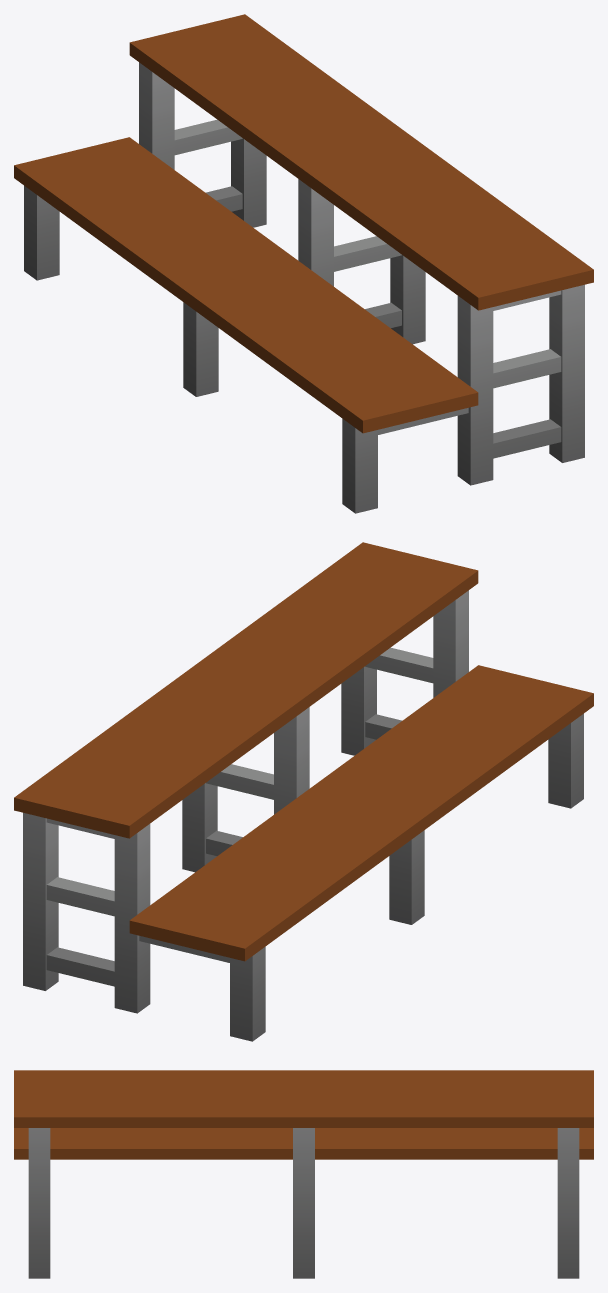
Rendered from Bench_1_A_5.glb.
The picture shows the model from 3 angles, top to bottom: view 1: azimuth 30°, elevation 25°; view 2: azimuth 150°, elevation 25°; view 3: azimuth 270°, elevation 25°; orthographic projection. The views are drawn at different scales.
Visible parts, largest first — view 1: Bench_1_A_5; view 2: Bench_1_A_5; view 3: Bench_1_A_5.
Part boxes in pixels (left/top/right/bottom): Bench_1_A_5: left=14, top=14, right=593, bottom=513; Bench_1_A_5: left=14, top=542, right=593, bottom=1041; Bench_1_A_5: left=14, top=1070, right=593, bottom=1278.
Bounding box in the file's own units: 0.8137 × 0.654 × 2.13.
2 materials, 2 textured.
